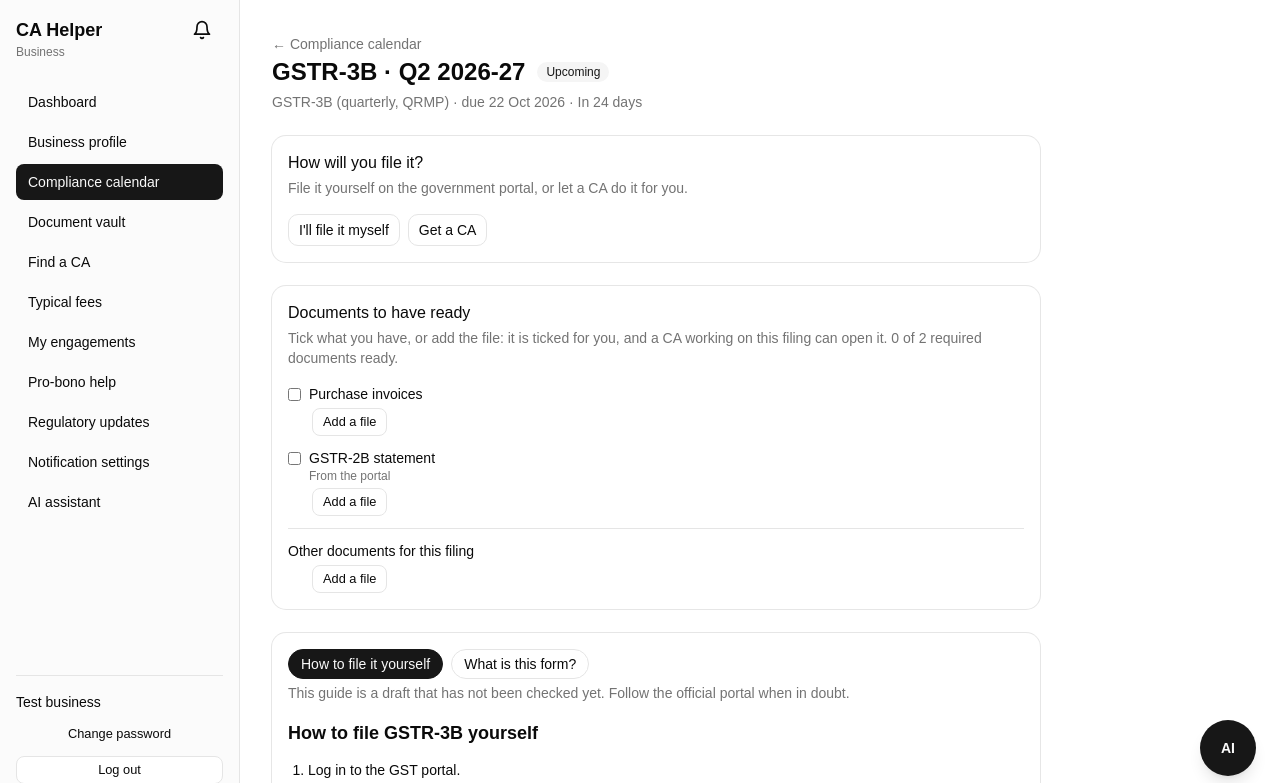
filing page › chooses to file it myself, then marks it filed with the ARN
Click the button "I'll file it myself". click: click(344, 230)
box: [288,214,400,246]
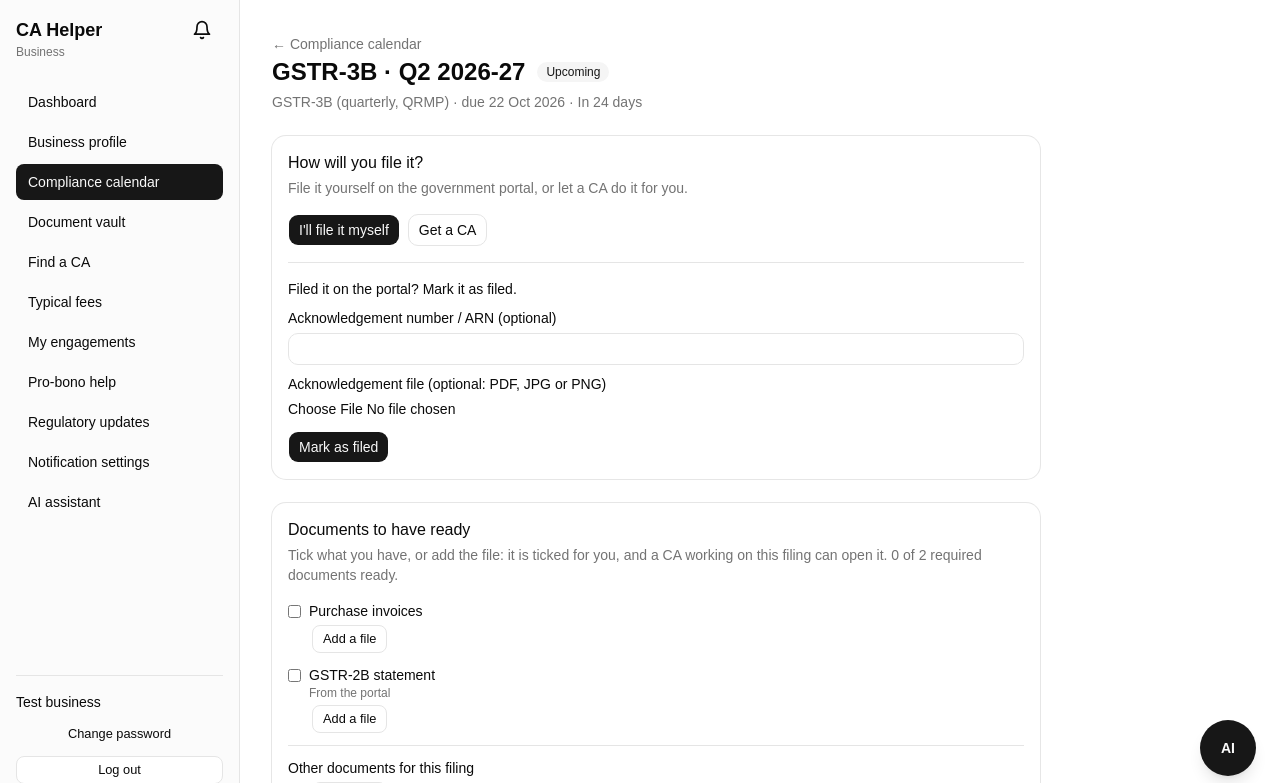
Type "AA270926123456X" into the field labelled "Acknowledgement number / ARN (optional)". click: (656, 349)
box: [288,333,1024,365]
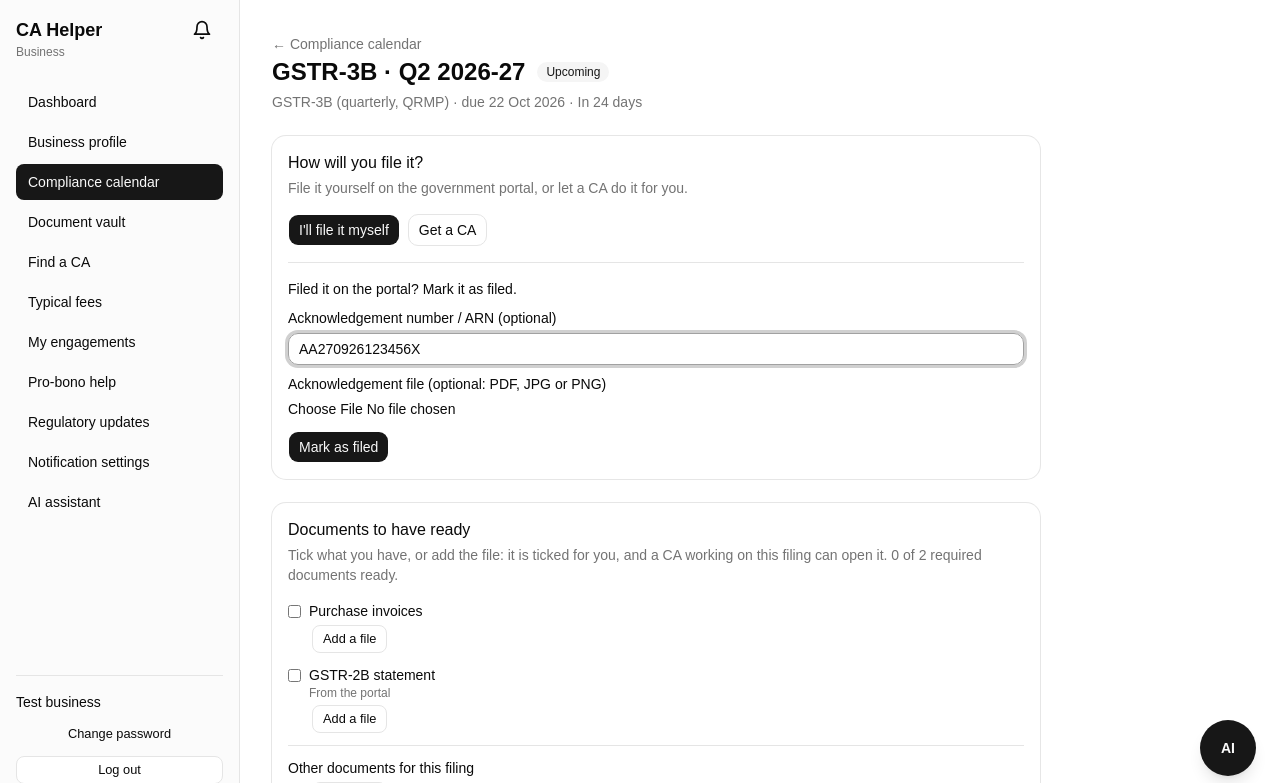
Click the button "Mark as filed". click: click(339, 447)
box: [288,431,389,463]
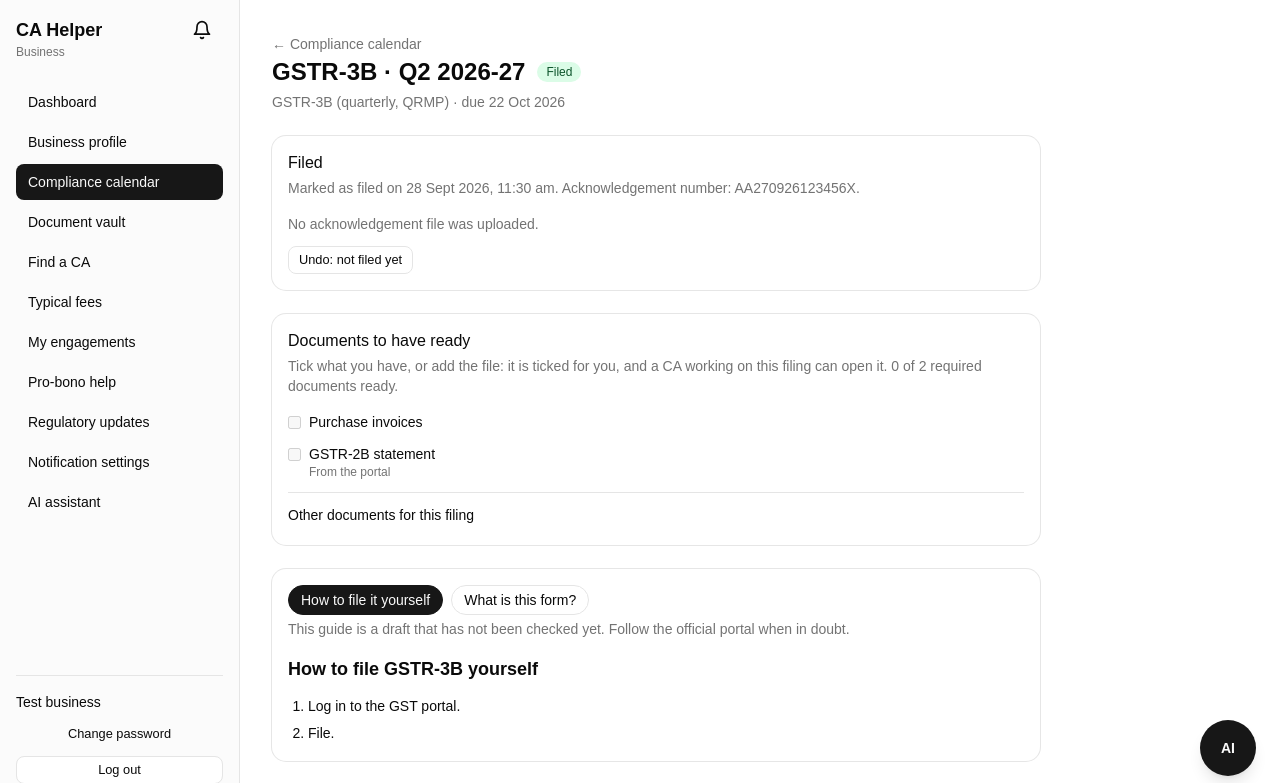
Now the text "Acknowledgement number: AA270926123456X" is shown, box [559,180,860,196]
Now the button "Undo: not filed yet" is shown, box [288,246,413,274]
